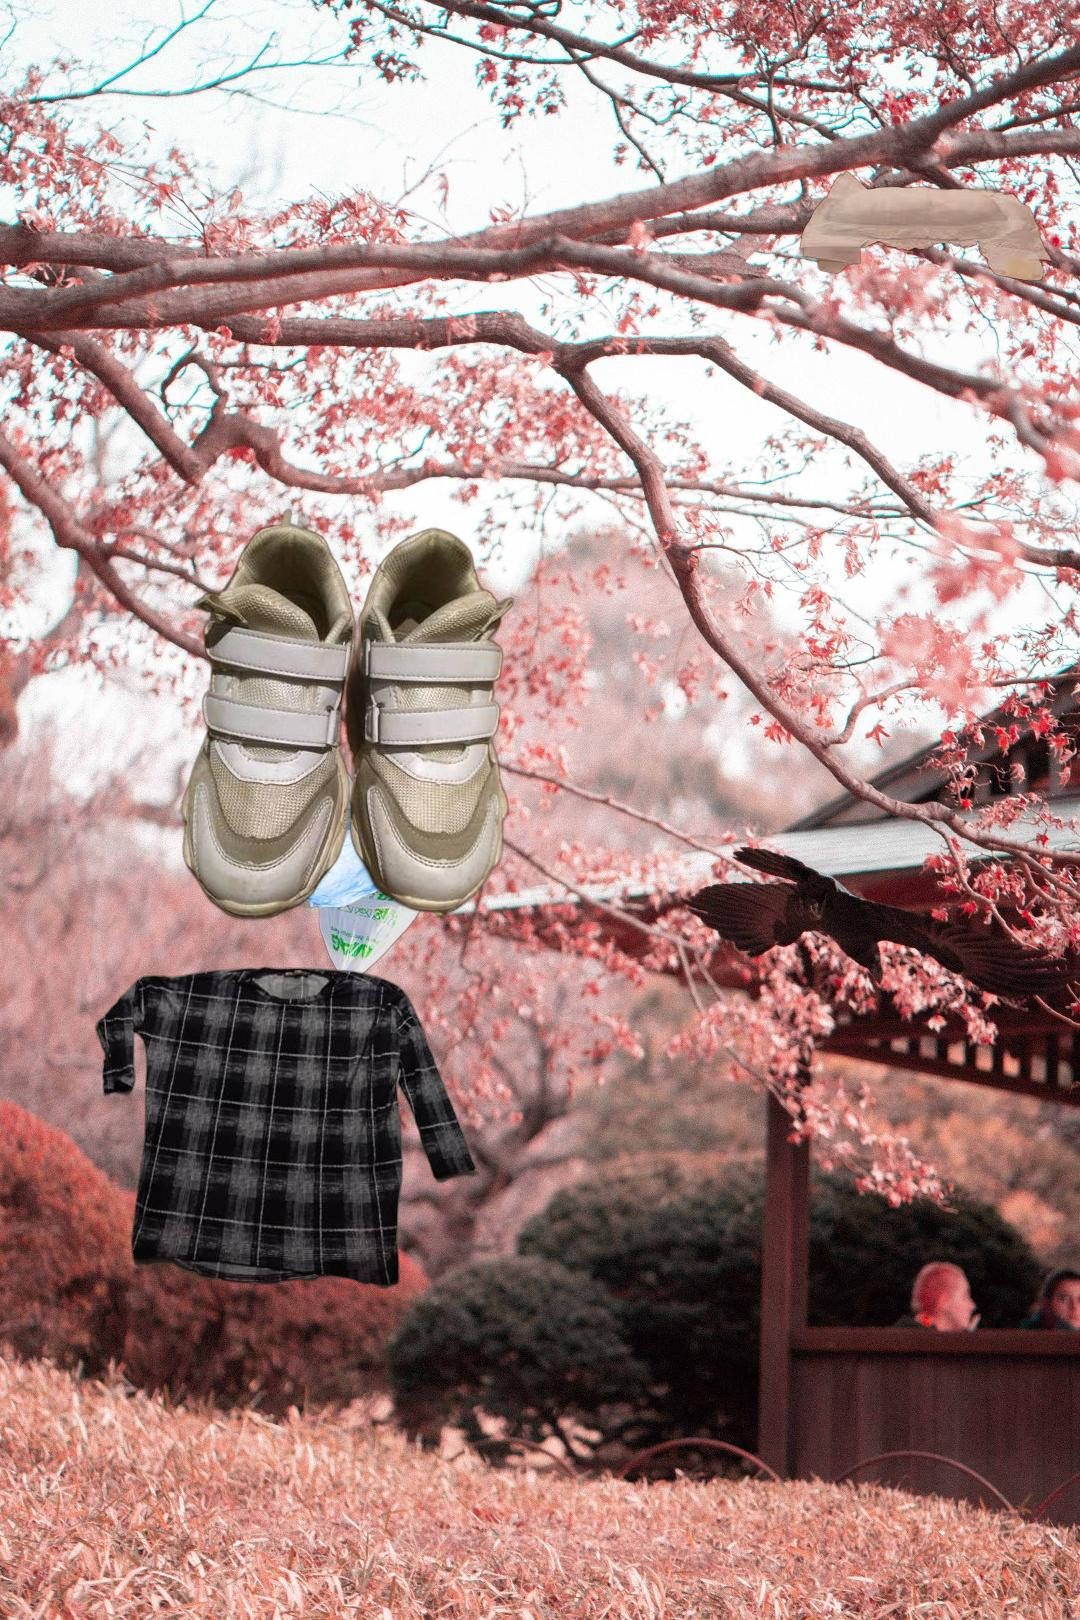clothes: (92, 963, 479, 1293)
paper: (46, 1618, 372, 1620)
plastic-bag: (250, 761, 454, 1009)
shoes: (176, 505, 517, 927)
trash: (796, 168, 1055, 284)
